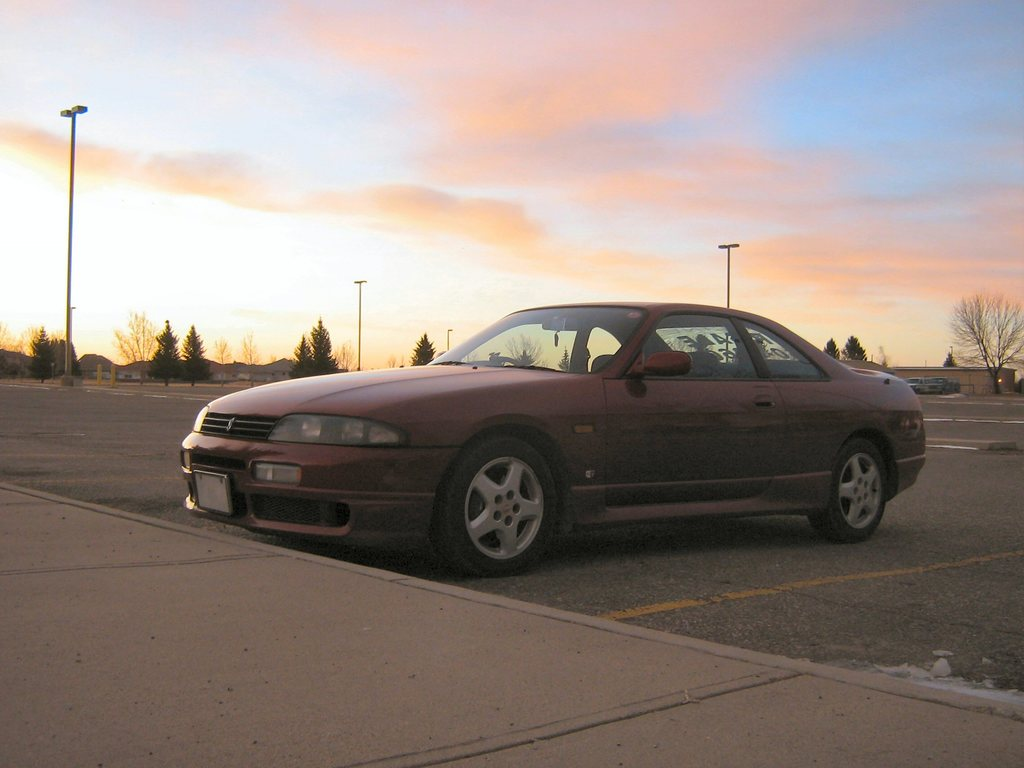Car: (166, 298, 943, 584), (906, 374, 958, 395)
